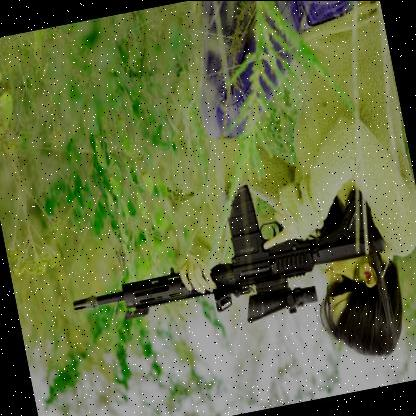rifle: (49, 161, 395, 358)
